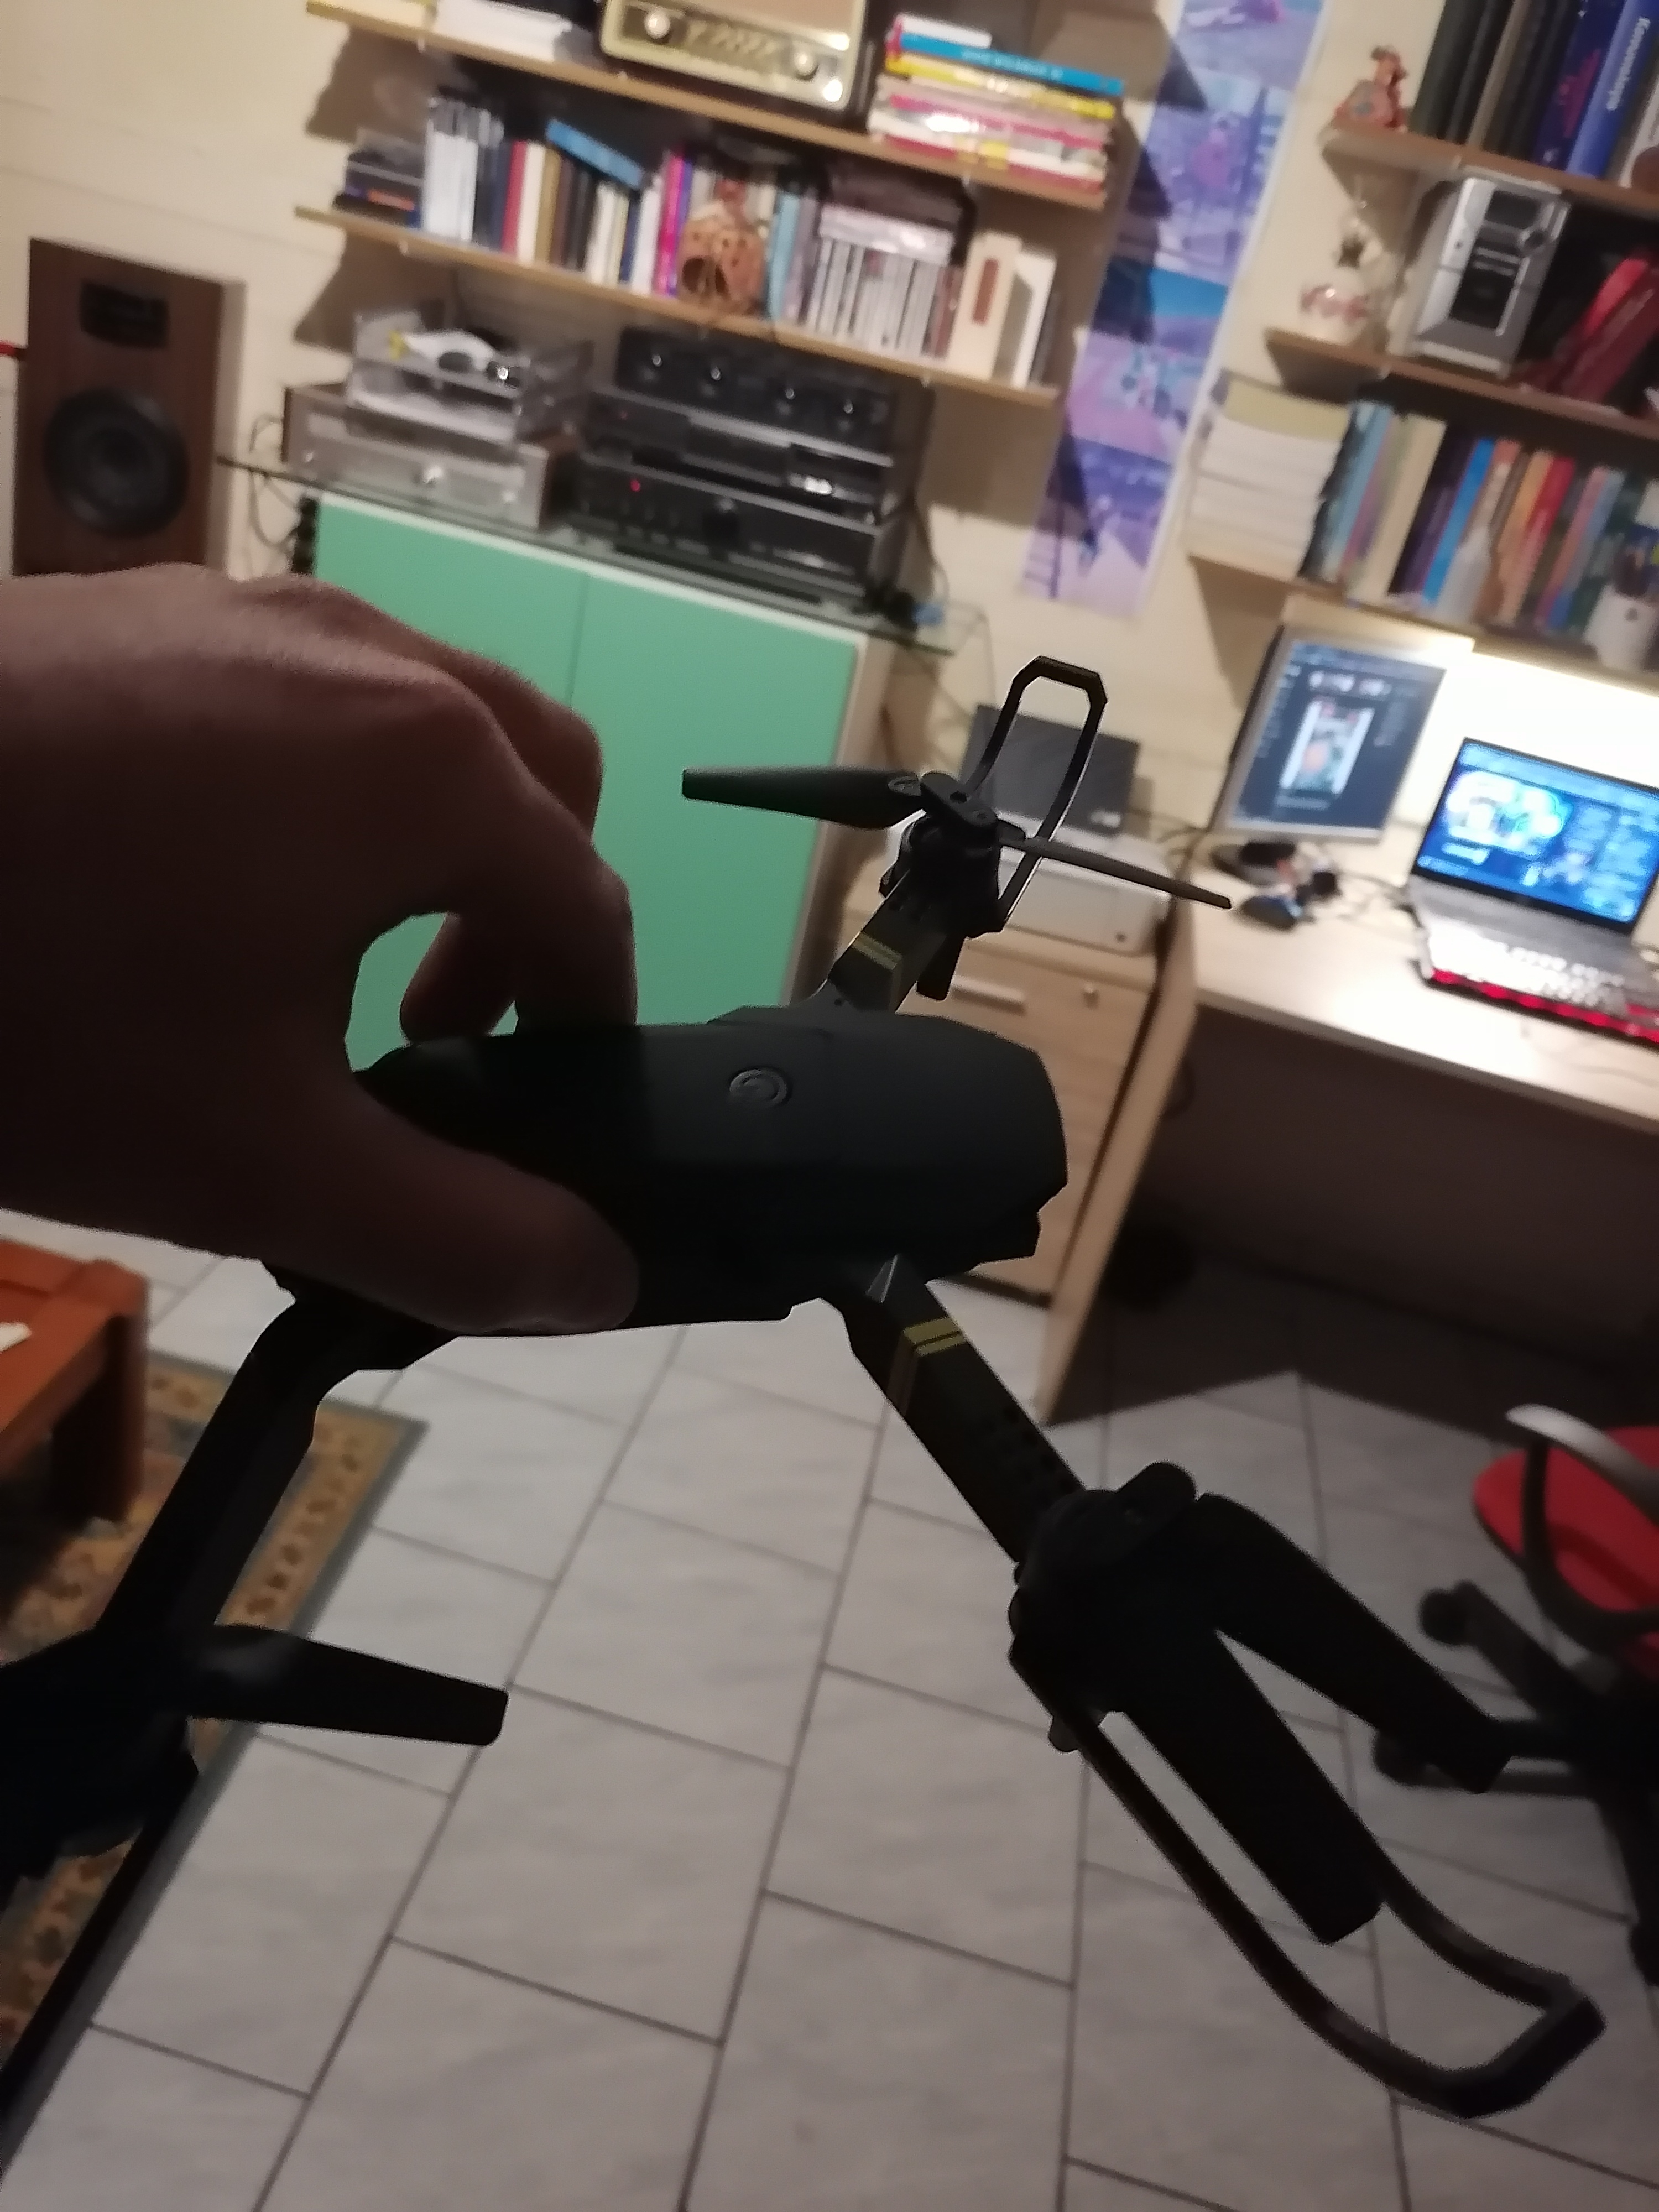drone: (110, 516, 1446, 1980)
